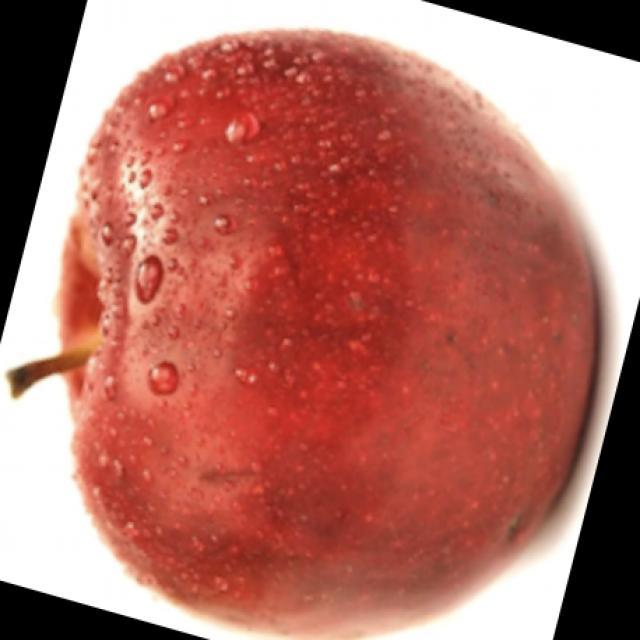Fresh Apple: (85, 32, 613, 635)
